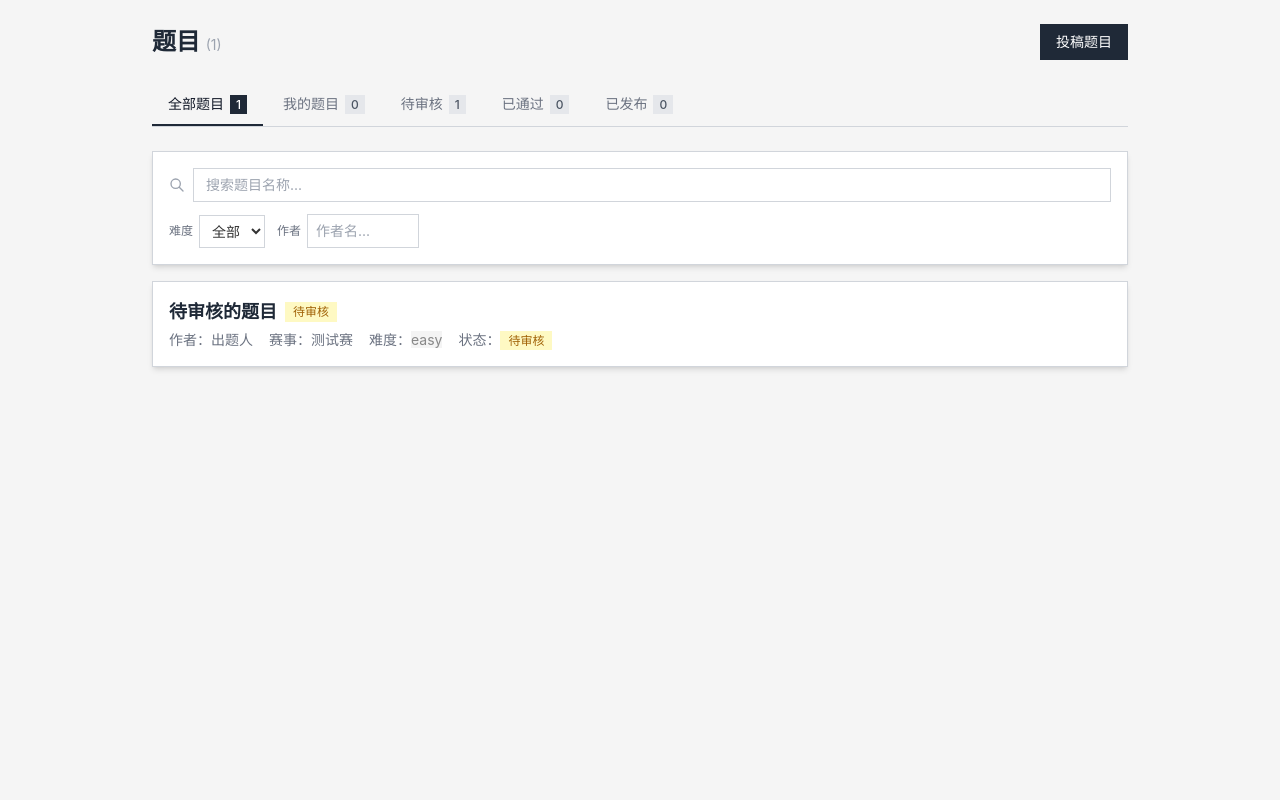
Scenario: ProblemsPage 待审核 Tab › 点击退回打开退回理由弹窗（reject）
The width and height of the screenshot is (1280, 800).
Click the button "待审核1". click: point(433, 105)
box: [385, 84, 482, 126]
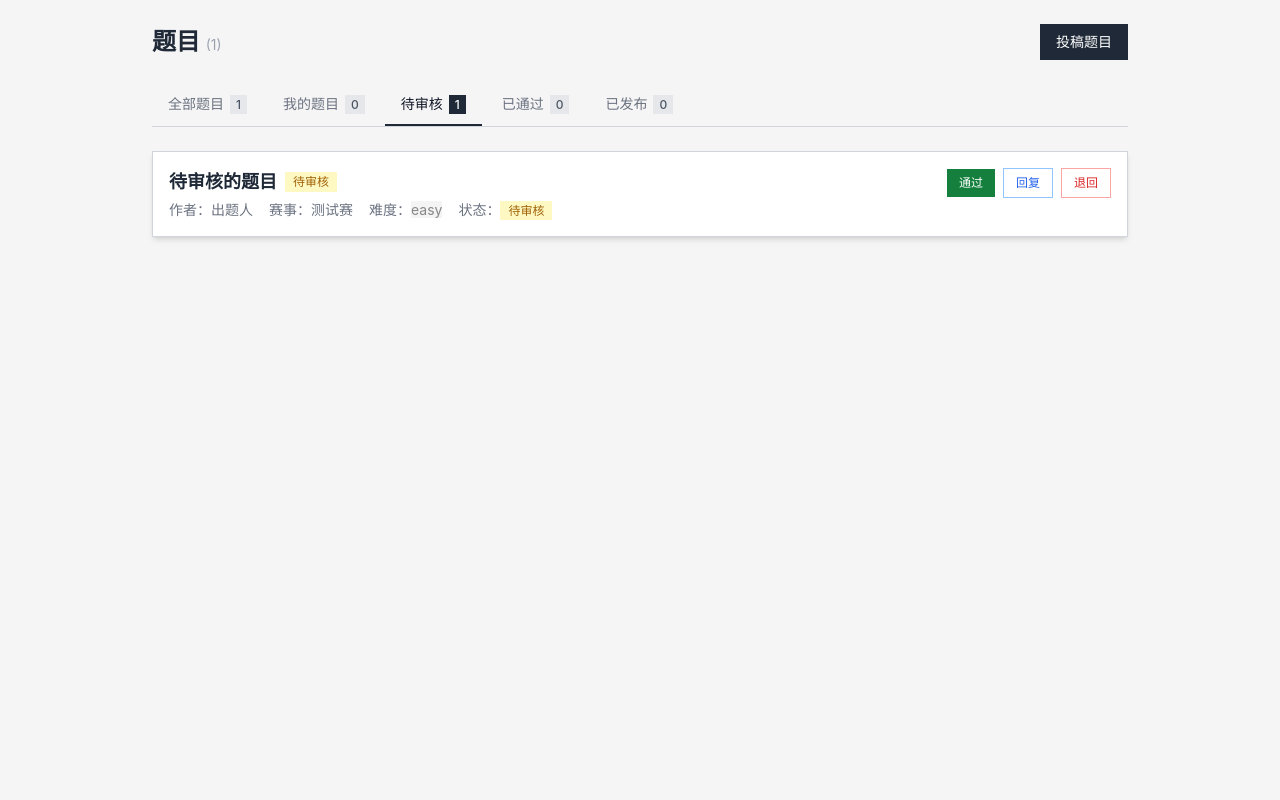
Click the button "退回". click: point(1086, 183)
box: [1061, 168, 1111, 198]
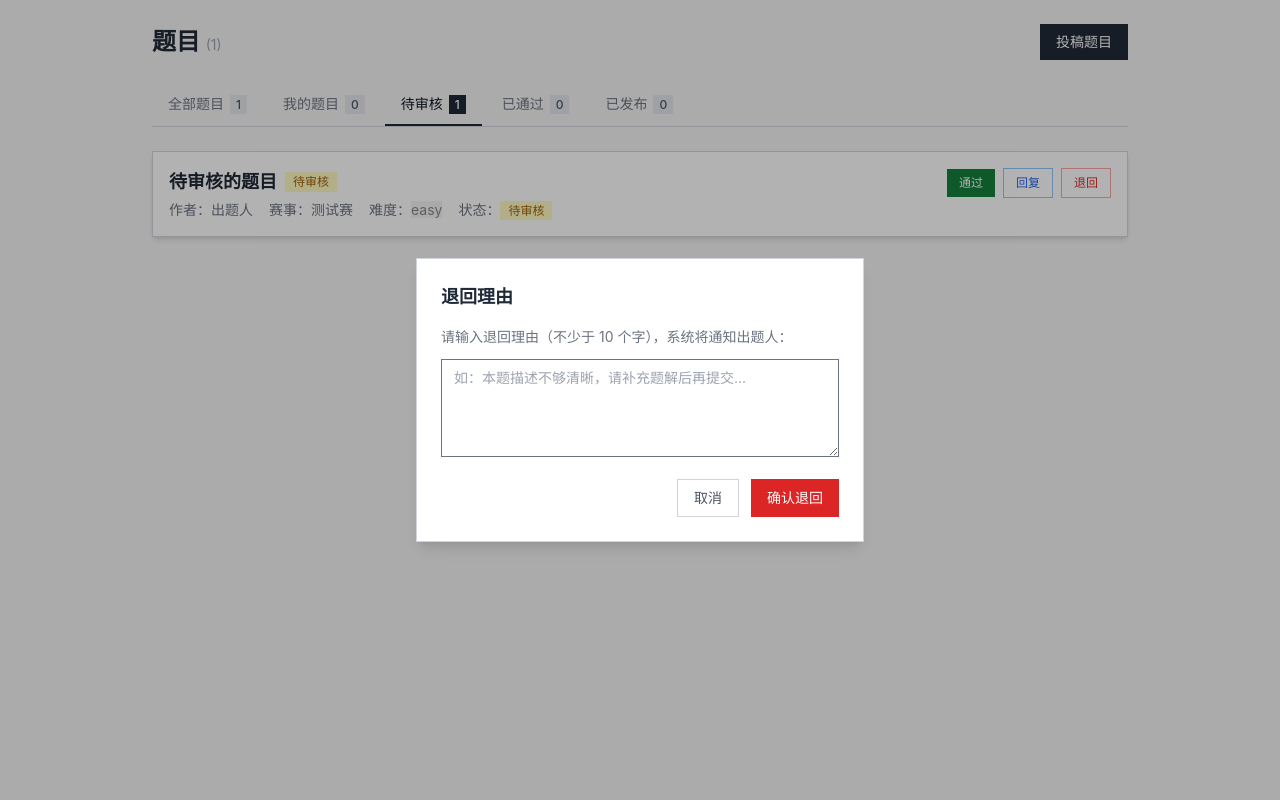
Check: the heading "退回理由" is shown, box [441, 286, 513, 307]
Check: the text "请输入退回理由（不少于 10 个字），系统将通知出题人：" is shown, box [441, 327, 839, 347]
